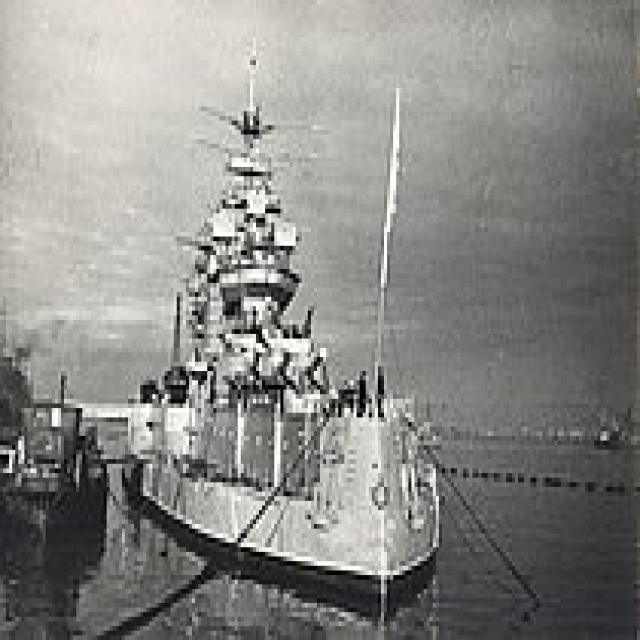boat: (138, 144, 460, 604)
